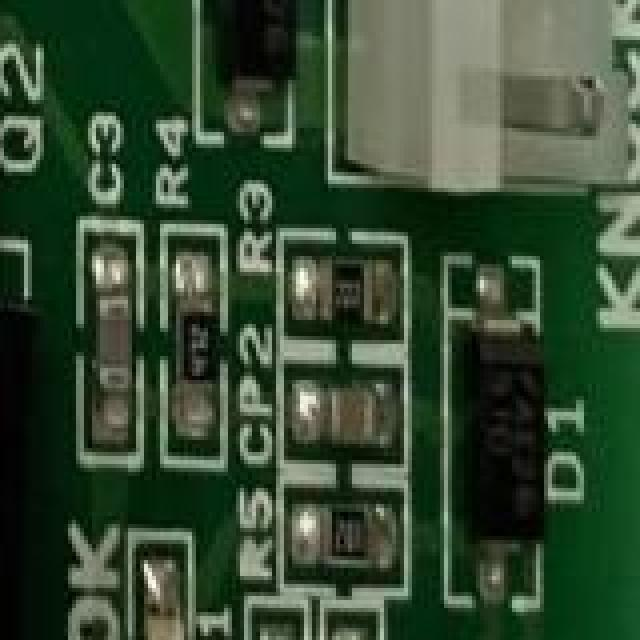IC: (0, 0, 24, 640)
LED: (140, 564, 192, 640)
capacitor: (92, 256, 134, 436), (308, 372, 386, 466)
connector: (332, 0, 640, 196)
diode: (452, 276, 554, 610), (200, 0, 308, 128)
resistor: (300, 492, 398, 578), (300, 248, 394, 336), (176, 252, 218, 430), (256, 608, 304, 640), (332, 632, 384, 640)
transistor: (408, 636, 492, 640)
